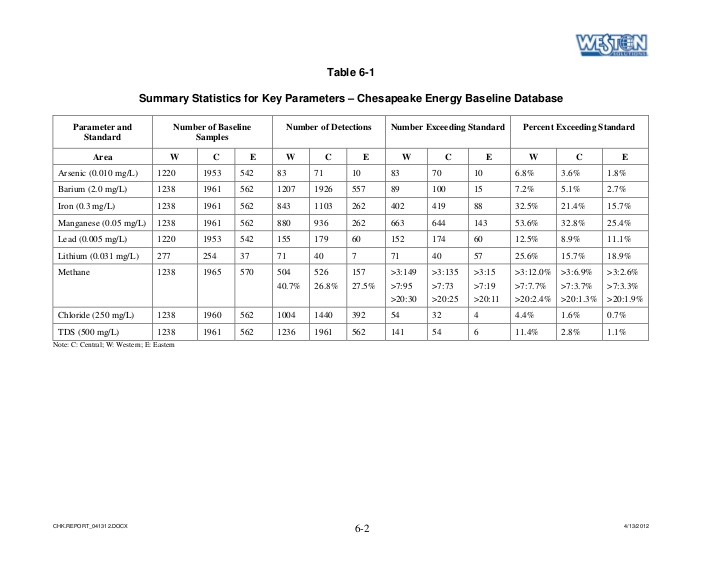fracking table: (49, 113, 650, 341)
